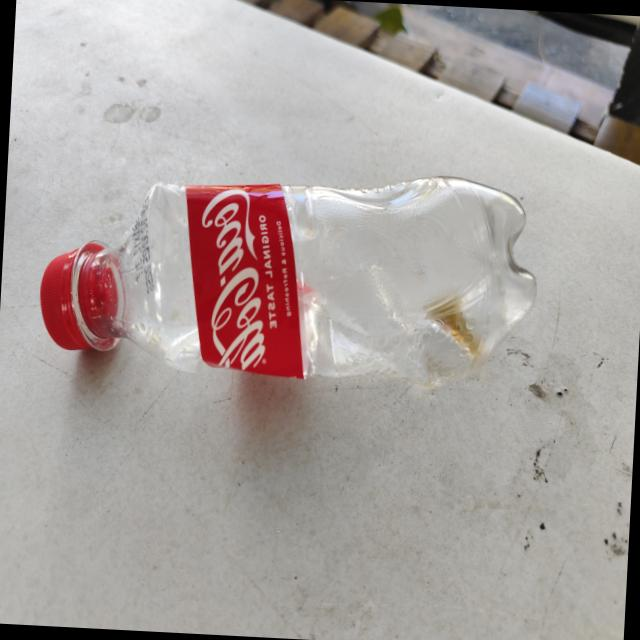Bottle: (41, 177, 536, 386)
